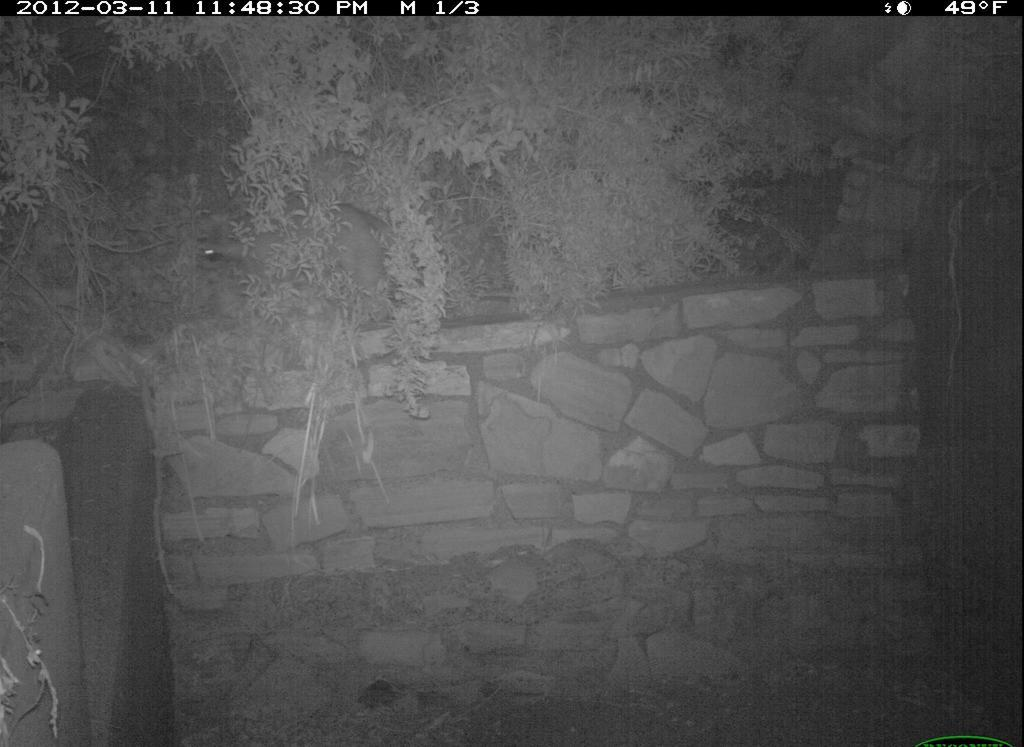raccoon: (178, 210, 432, 341)
